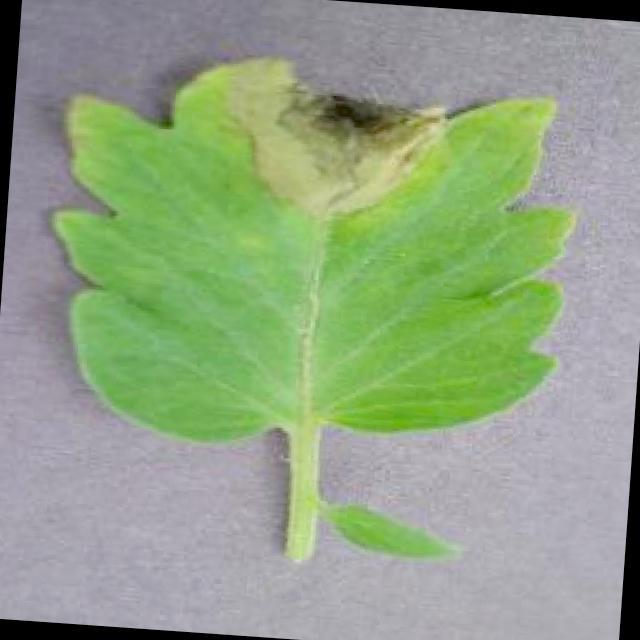Tomato late blight leaf: (32, 36, 590, 472)
